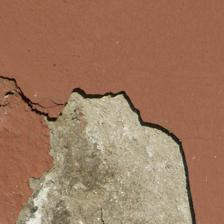Crack: (48, 30, 188, 78), (42, 0, 154, 59)
